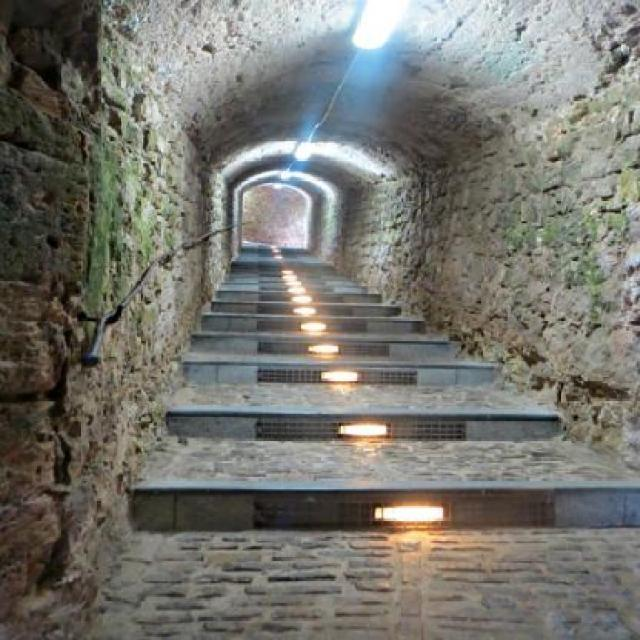stair: (84, 241, 640, 640)
